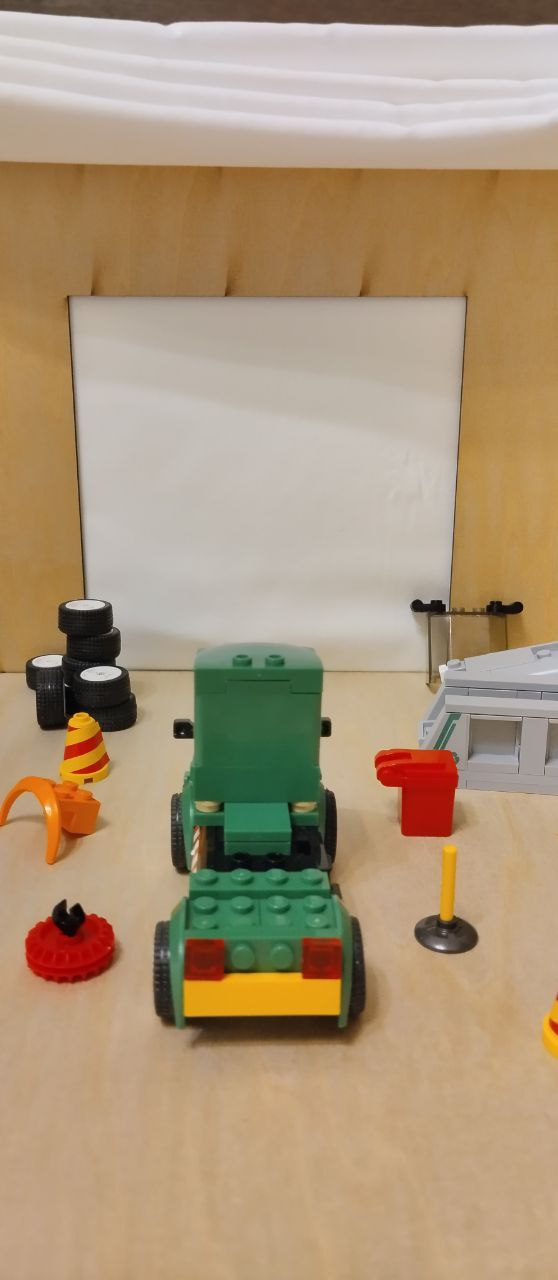Cone: (60, 710, 121, 795), (539, 978, 558, 1051)
Object Red: (367, 743, 470, 848)
Truck: (155, 632, 381, 1048)
